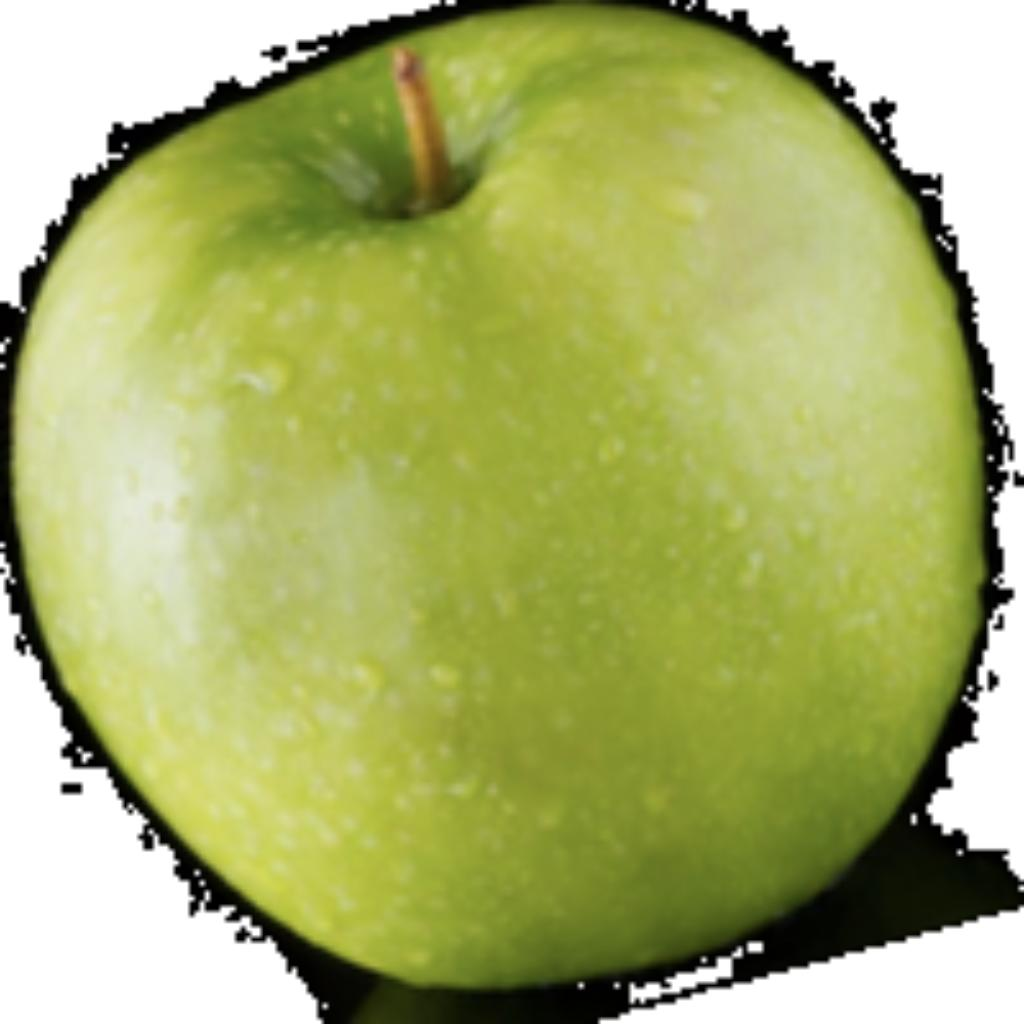apple: (0, 0, 1019, 1019)
